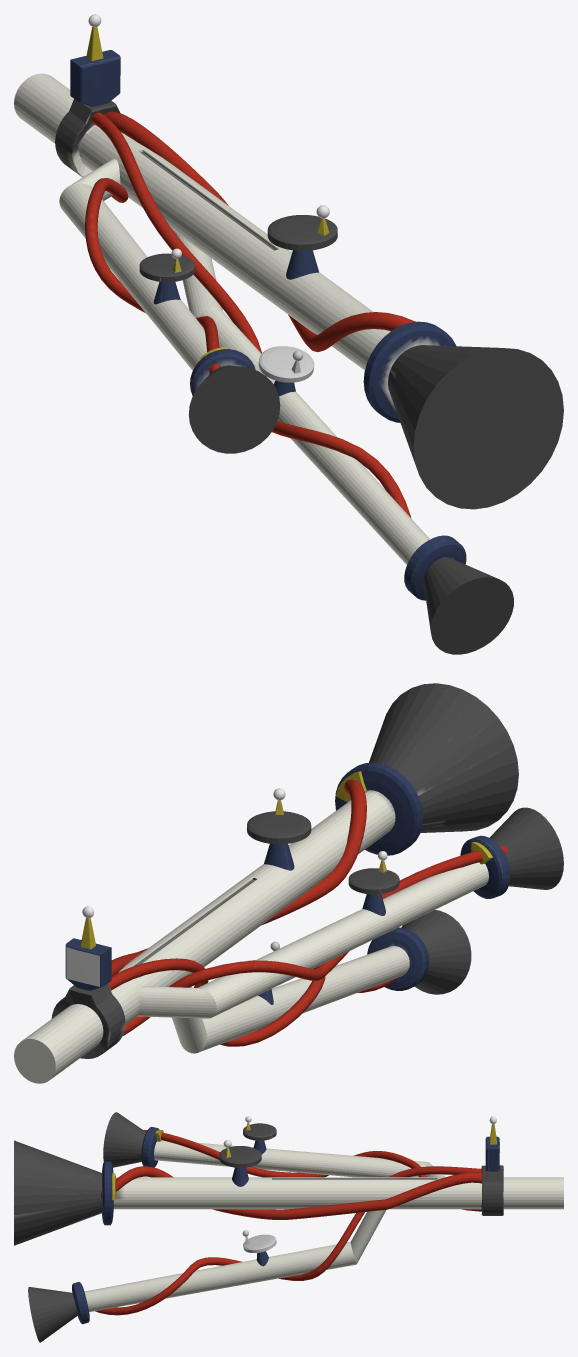
The model's file is VentiladorLvl2.fbx.
3 renders of one model, top to bottom at view 1: azimuth 30°, elevation 25°; view 2: azimuth 150°, elevation 25°; view 3: azimuth 270°, elevation 25°, orthographic. The views are drawn at different scales.
Parts seen in each view (by area): view 1: Cylinder, Cylinder.006, Cylinder.011, Cylinder.010; view 2: Cylinder, Cylinder.006, Cylinder.010; view 3: Cylinder, Cylinder.006, Cylinder.010, Cylinder.011.
Part boxes in pixels (<box>): Cylinder: <box>14,14,563,654</box>; Cylinder.006: <box>267,205,337,250</box>; Cylinder.011: <box>258,346,314,382</box>; Cylinder.010: <box>139,248,194,282</box>; Cylinder: <box>14,683,563,1083</box>; Cylinder.006: <box>247,788,311,844</box>; Cylinder.010: <box>348,851,399,894</box>; Cylinder: <box>14,1112,563,1342</box>; Cylinder.006: <box>219,1140,261,1167</box>; Cylinder.010: <box>243,1116,276,1140</box>; Cylinder.011: <box>242,1230,276,1252</box>.
Size of the model in its own units: 114 by 139 by 309.
